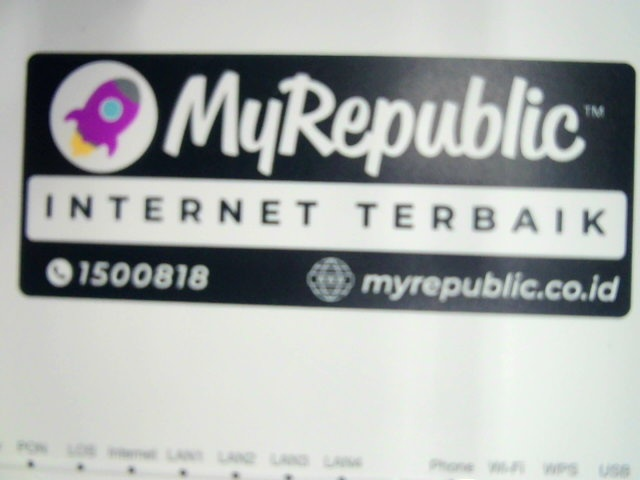BD_MyRepublic: (13, 48, 634, 322)
